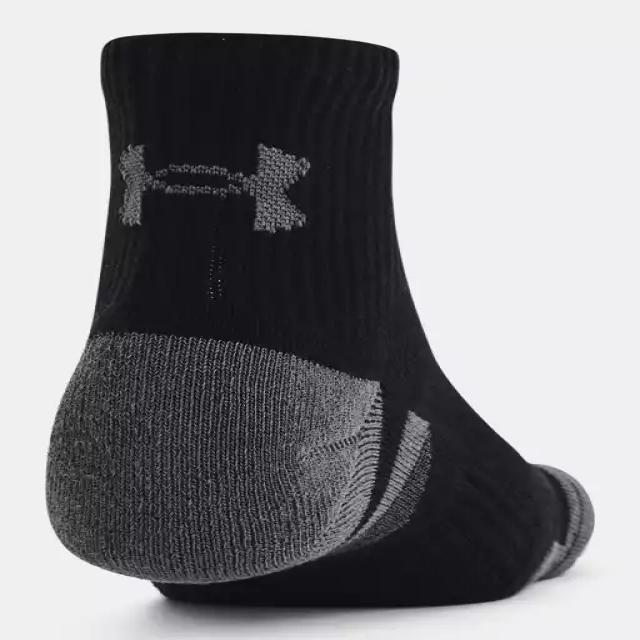sock: (45, 31, 595, 607)
